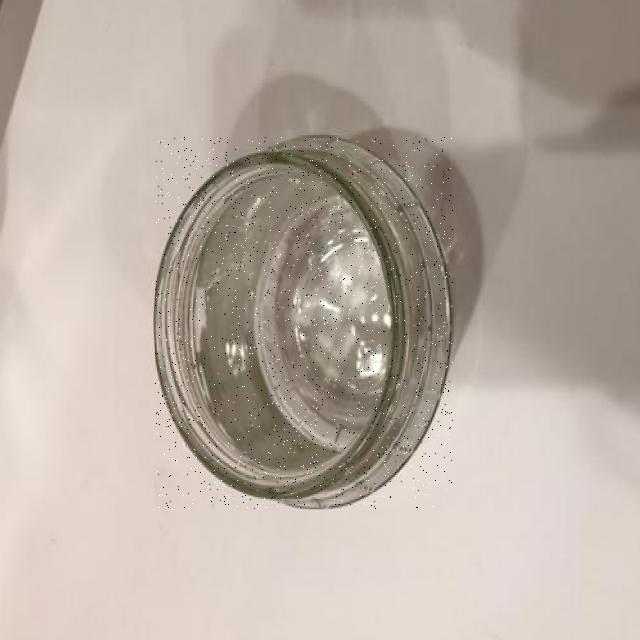glass: (155, 137, 453, 508)
